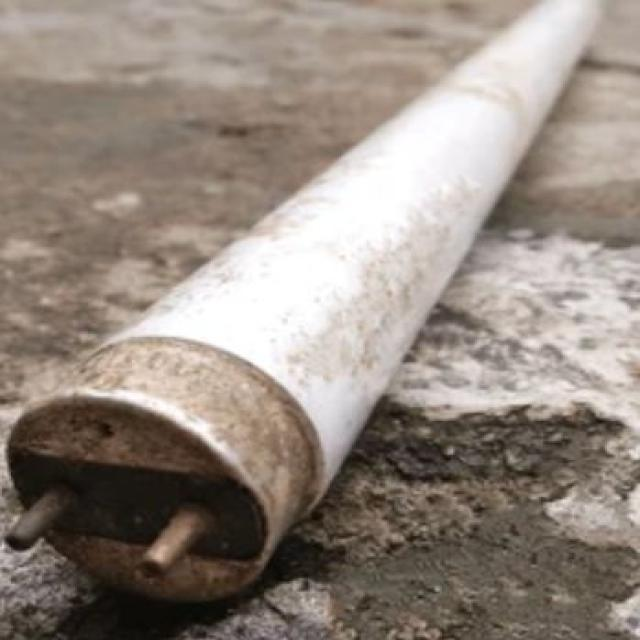electronic: (0, 0, 607, 604)
